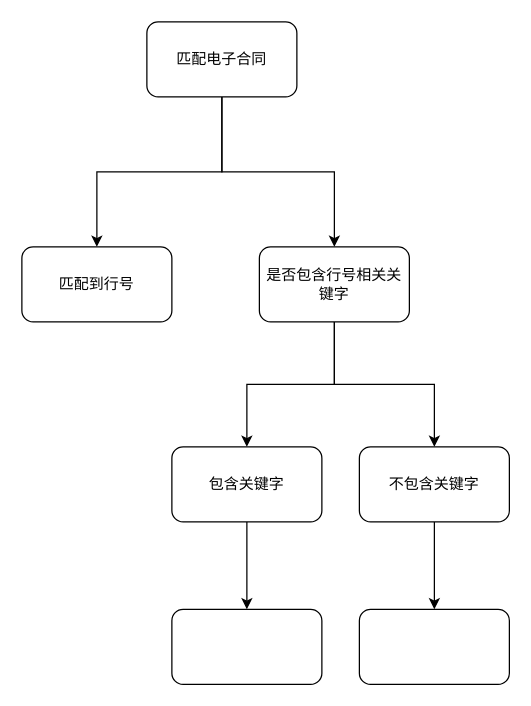
Image size: 531x706. Some labels were removed from this diagram. Each missing label, with the box of its shape:
无行号: (358, 608, 509, 684)
行号错误: (171, 608, 322, 684)
